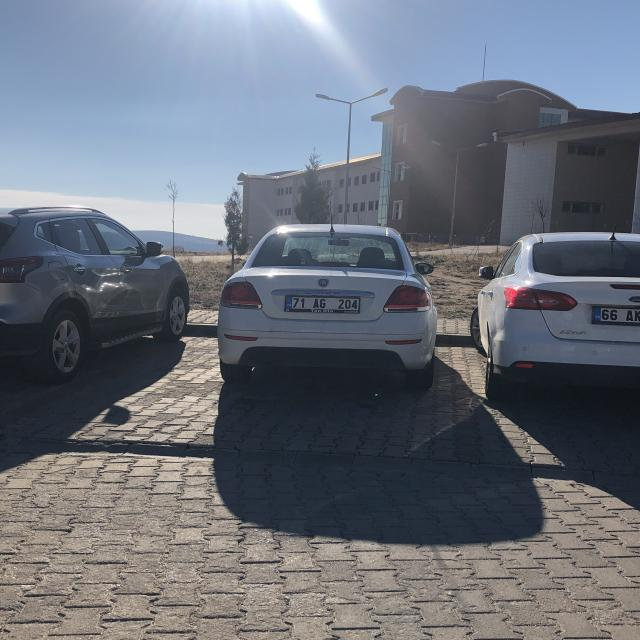license_plate: (285, 296, 360, 310)
